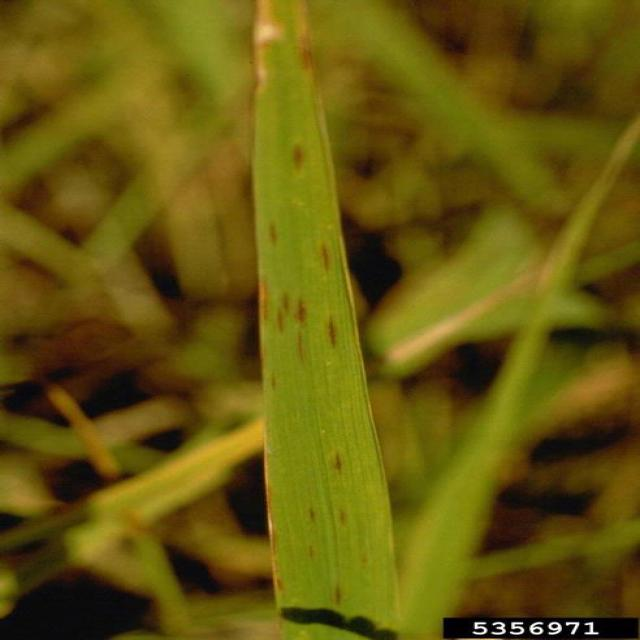Brown spot: (272, 134, 317, 180), (250, 205, 292, 251), (307, 234, 343, 279), (265, 483, 284, 548), (318, 317, 352, 352), (294, 36, 320, 78), (318, 448, 352, 478), (289, 506, 327, 529), (347, 547, 383, 570), (327, 580, 353, 608), (274, 293, 293, 331), (289, 329, 313, 358), (333, 507, 364, 528), (299, 538, 324, 564), (294, 294, 312, 322), (272, 573, 290, 597), (267, 370, 288, 390)
